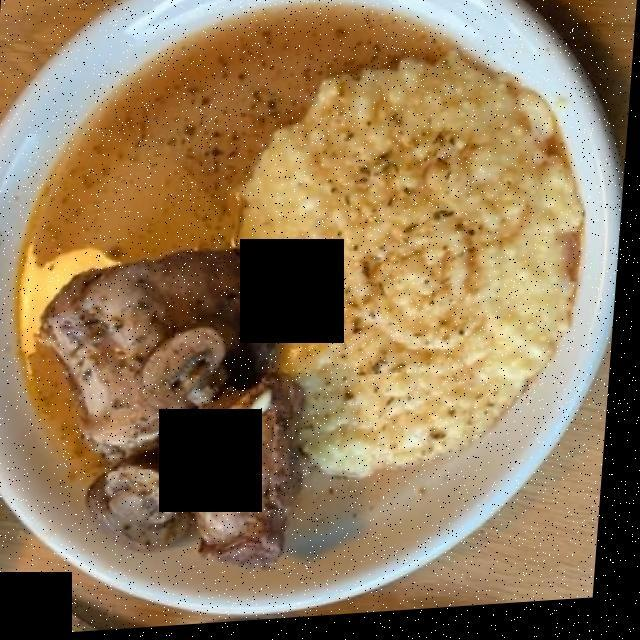mashed-potatoes: (243, 55, 565, 480)
mushroom: (87, 324, 228, 559)
sauce: (17, 5, 472, 498)
